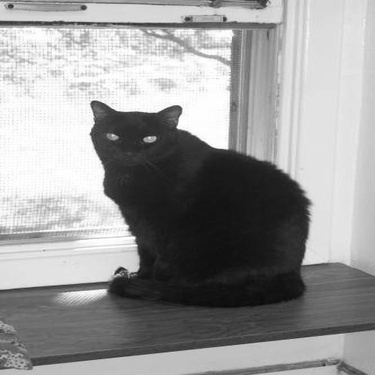cat: (90, 96, 315, 309)
